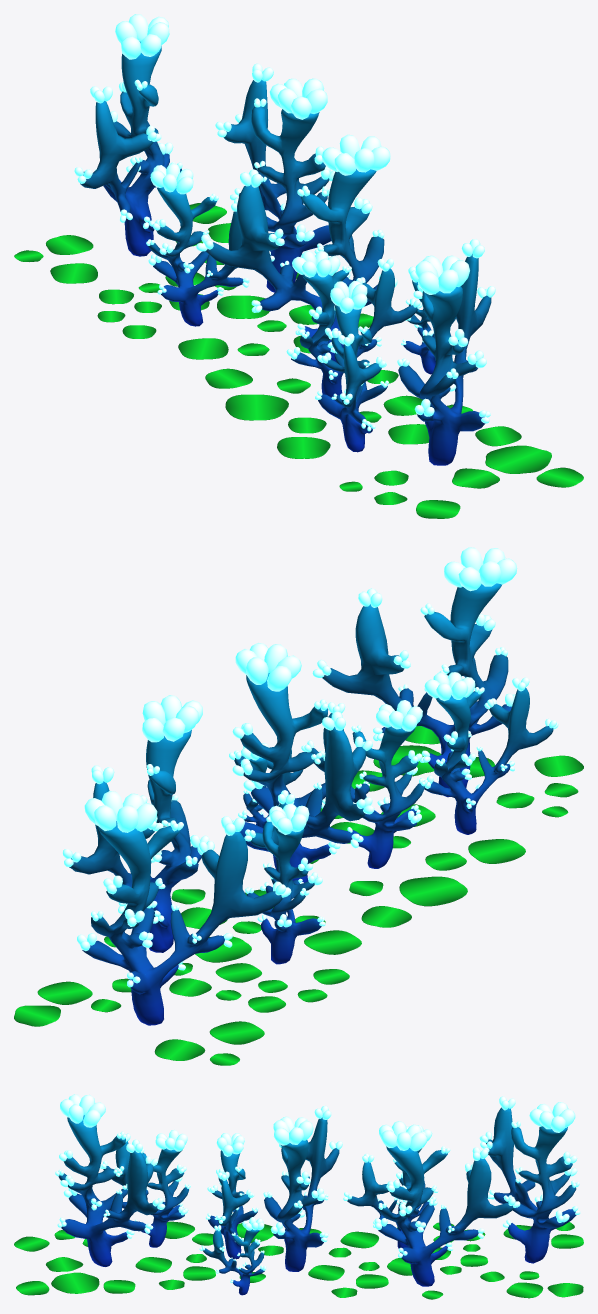
File: Plante Aqua D 3X1 F.glb
The picture shows the model from 3 angles, top to bottom: view 1: azimuth 30°, elevation 25°; view 2: azimuth 150°, elevation 25°; view 3: azimuth 270°, elevation 25°; orthographic projection. The views are drawn at different scales.
Visible parts, largest first — view 1: Cube.014; view 2: Cube.014; view 3: Cube.014.
Boxes of the visible parts, x1,y1,x2,y2 form: Cube.014: (14, 14, 583, 518); Cube.014: (14, 547, 583, 1065); Cube.014: (14, 1094, 583, 1299).
Size of the model in its own units: 1.9 by 1.83 by 5.89.
Materials: 35 (27 with a texture image).
